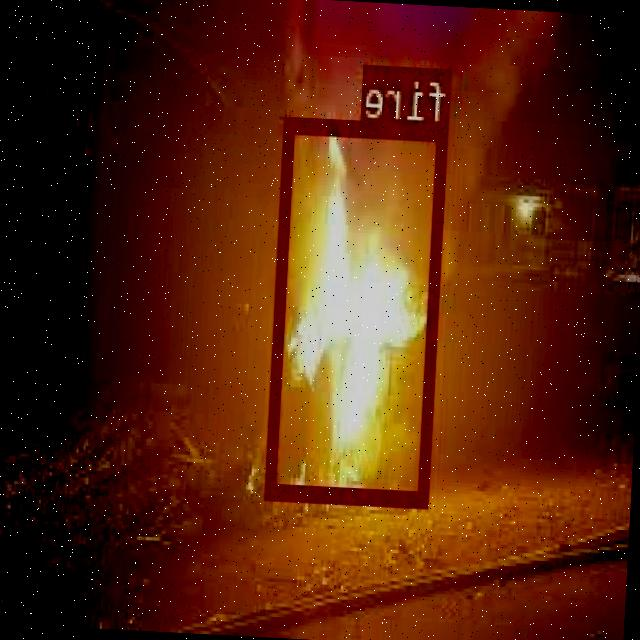fire: (268, 116, 451, 503)
